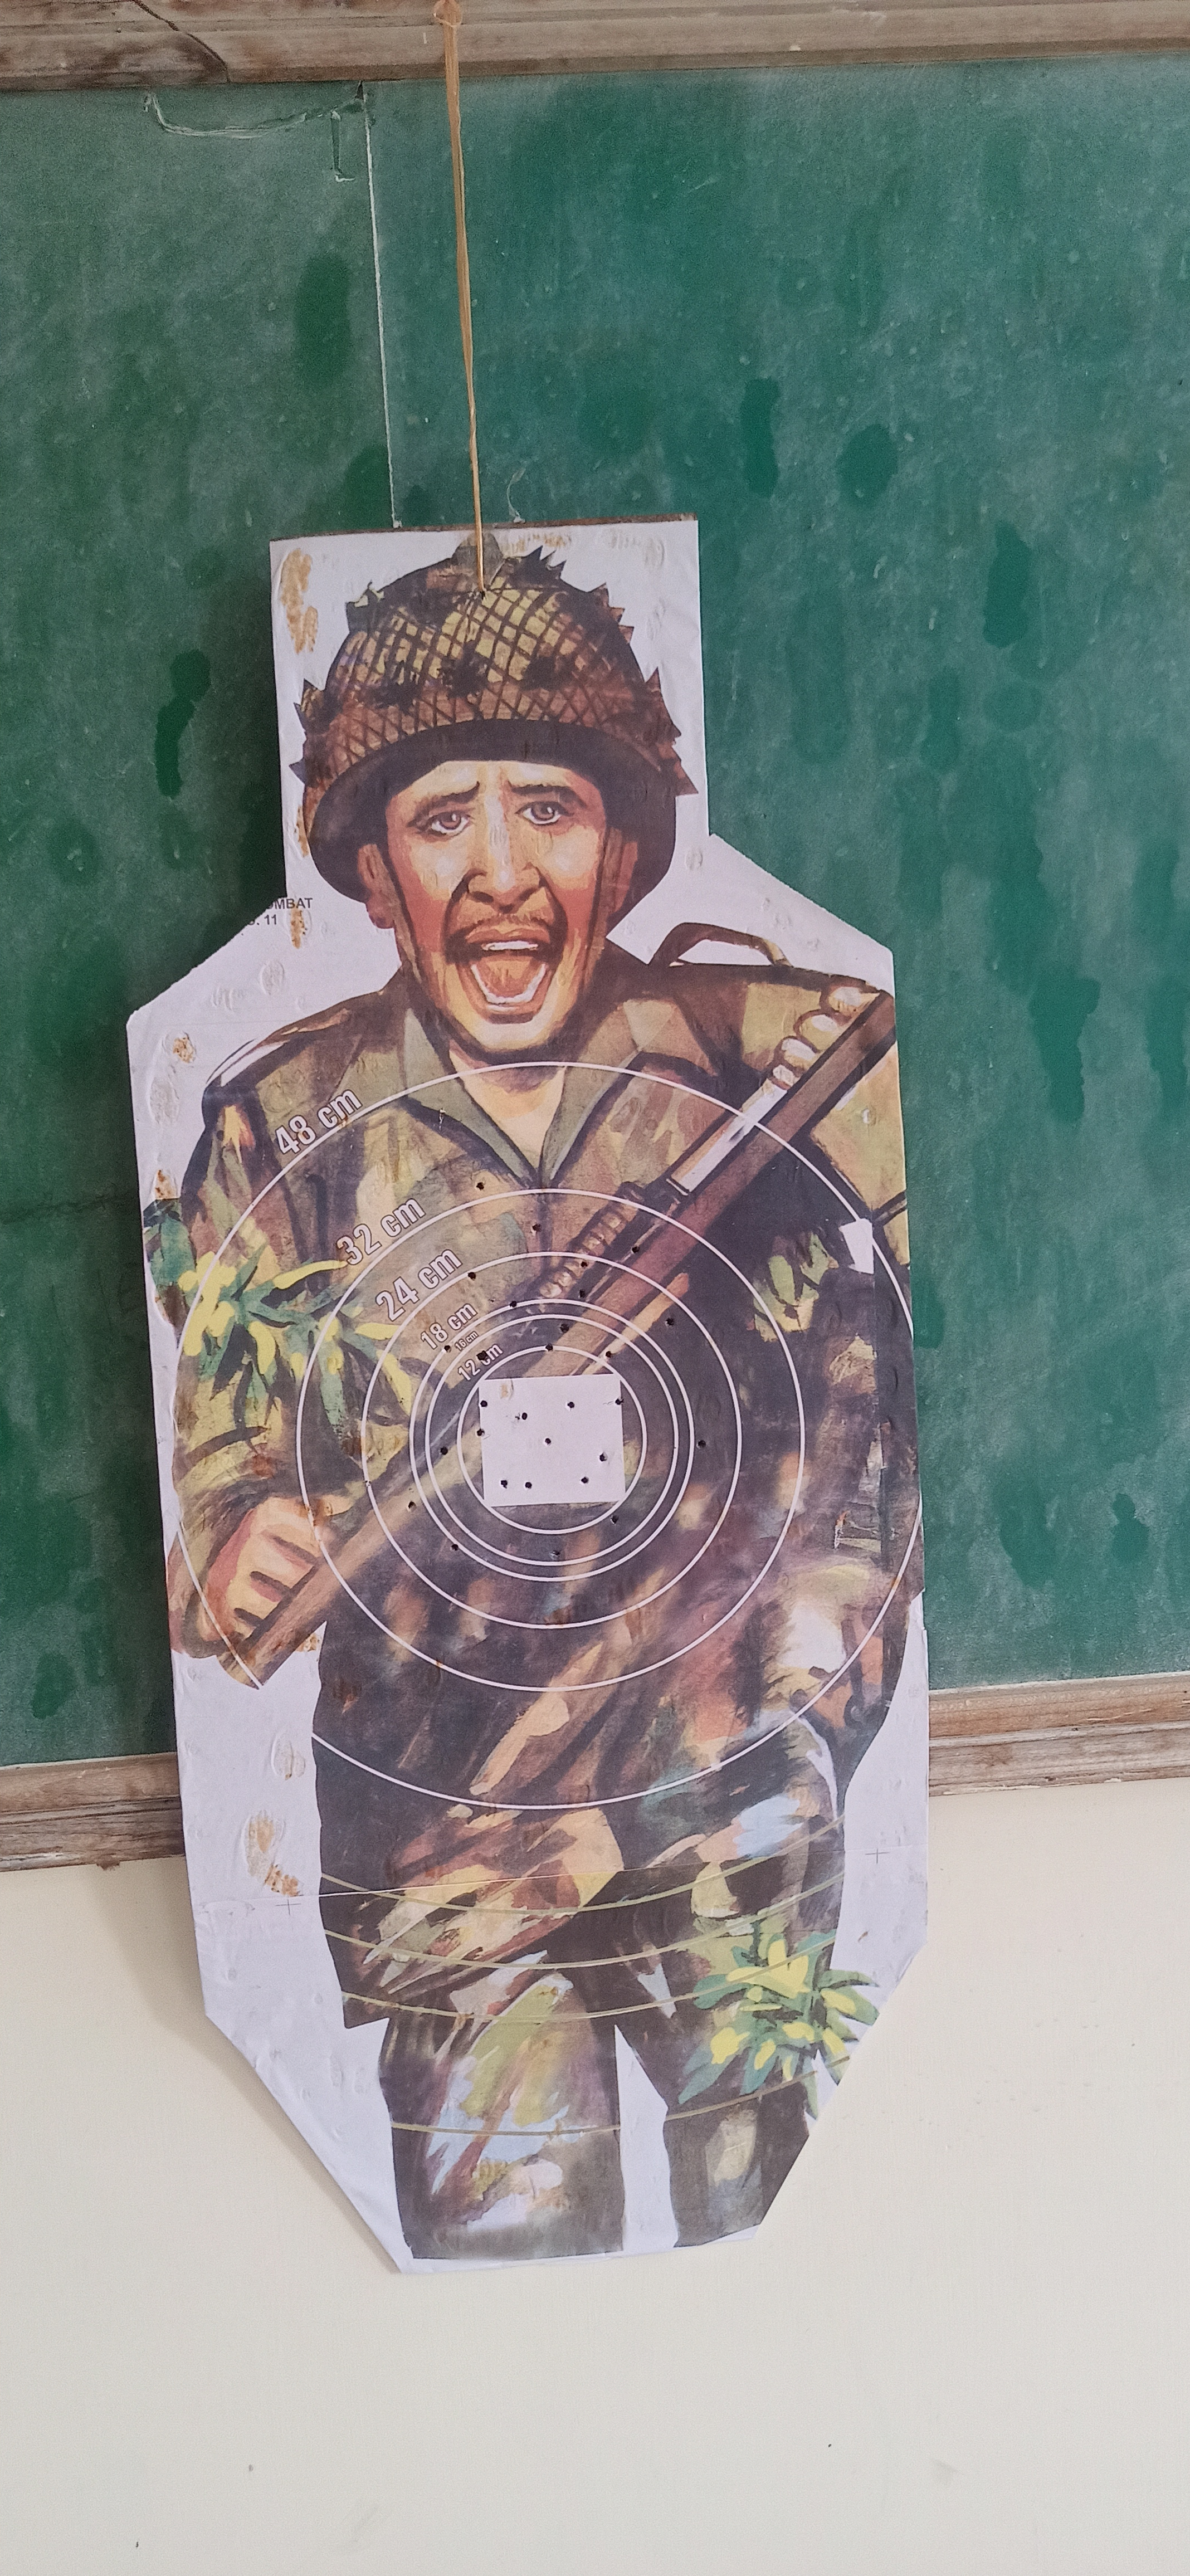bullet hit: (690, 1436, 713, 1452), (556, 1319, 572, 1337), (403, 1497, 419, 1515), (603, 1511, 623, 1526), (574, 1286, 590, 1303), (475, 1349, 491, 1365), (577, 1470, 593, 1487), (542, 1339, 557, 1357), (547, 1544, 562, 1561), (628, 1242, 644, 1257), (664, 1314, 680, 1329), (475, 1395, 490, 1411), (518, 1408, 533, 1424), (465, 1265, 478, 1283), (529, 1219, 544, 1234), (496, 1475, 511, 1490), (565, 1396, 579, 1413), (597, 1449, 610, 1465), (449, 1541, 462, 1556), (473, 1180, 487, 1194), (579, 1255, 592, 1270), (602, 1347, 615, 1362), (436, 1444, 450, 1457), (473, 1426, 488, 1439), (537, 1434, 552, 1447), (611, 1393, 626, 1406), (523, 1479, 536, 1492), (506, 1298, 523, 1308), (444, 1341, 454, 1354)
white box: (478, 1377, 628, 1506)
